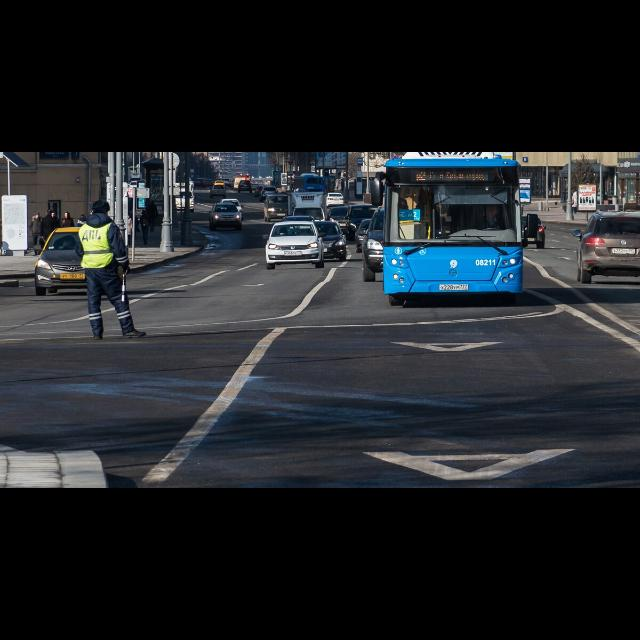road: (0, 212, 639, 486)
